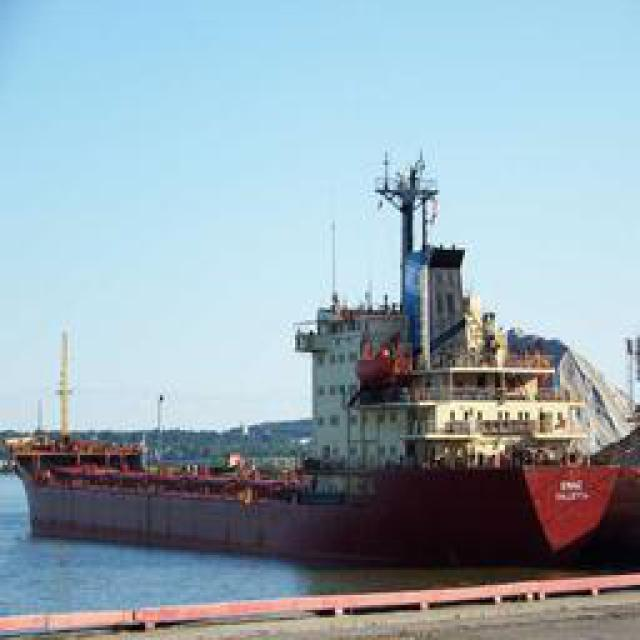Ship: (21, 136, 631, 561)
